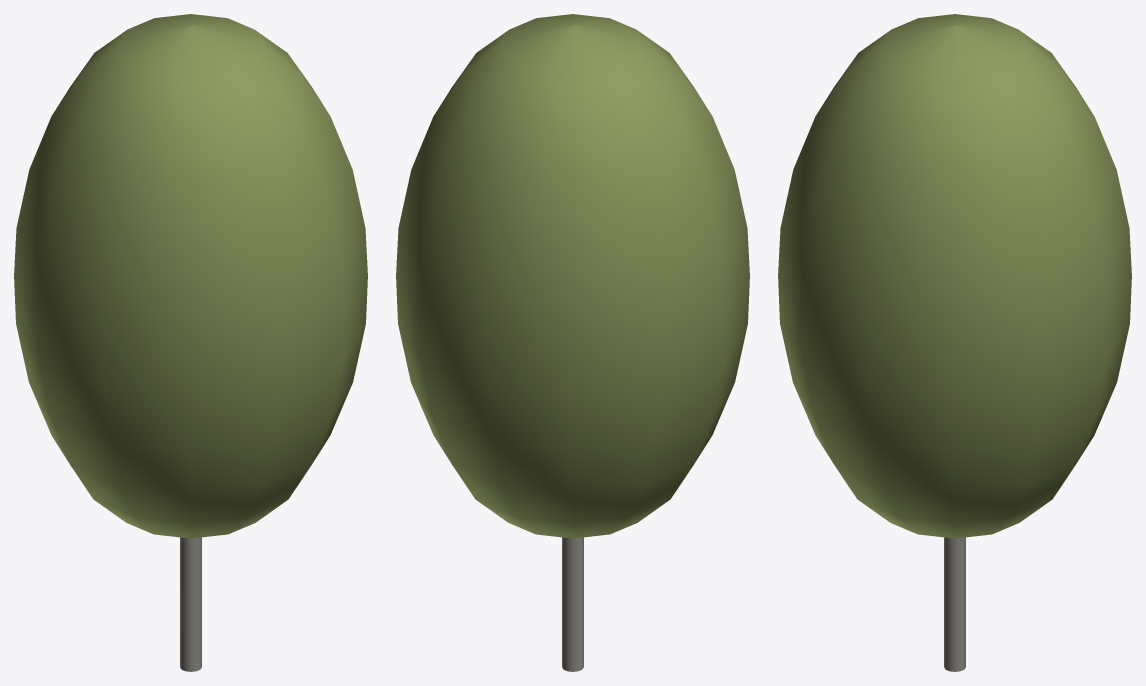
The model's file is Paper_Birch_Analytical_0.obj.
3 views of the same model, side by side, from view 1: azimuth 30°, elevation 25°; view 2: azimuth 150°, elevation 25°; view 3: azimuth 270°, elevation 25° (orthographic).
Parts seen in each view (by area): view 1: AnalyticalCrown, AnalyticalTrunk; view 2: AnalyticalCrown, AnalyticalTrunk; view 3: AnalyticalCrown, AnalyticalTrunk.
Part boxes in pixels (x1,y1,x2,y2): AnalyticalCrown: (14, 14, 367, 538); AnalyticalTrunk: (180, 537, 201, 671); AnalyticalCrown: (396, 14, 749, 538); AnalyticalTrunk: (562, 537, 583, 671); AnalyticalCrown: (778, 14, 1131, 538); AnalyticalTrunk: (944, 537, 965, 671).
Bounding box in the file's own units: 7.5 × 15 × 7.5.
